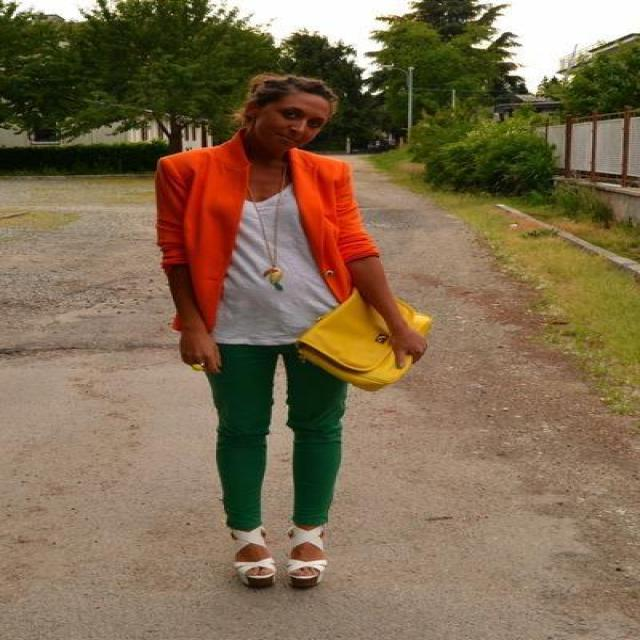bag: (299, 294, 432, 390)
jacket: (136, 140, 376, 314)
pants: (211, 342, 346, 532)
shirt: (214, 184, 336, 344)
shoe: (235, 529, 325, 577)
